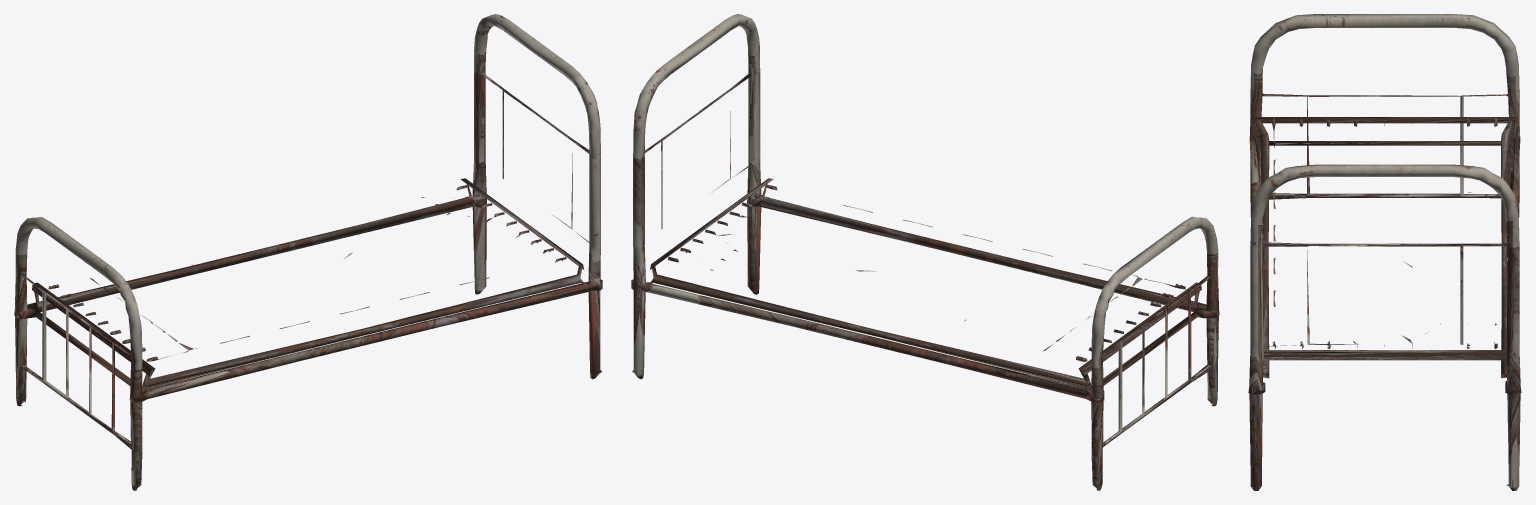
Rendered from old_bed_frame.glb.
3 views of the same model, side by side, from view 1: azimuth 30°, elevation 25°; view 2: azimuth 150°, elevation 25°; view 3: azimuth 270°, elevation 25° (orthographic). The views are drawn at different scales.
Parts seen in each view (by area): view 1: old_bed_frame; view 2: old_bed_frame; view 3: old_bed_frame.
Boxes of the visible parts, x1=… form: old_bed_frame: x1=14, y1=14, x2=602, y2=490; old_bed_frame: x1=631, y1=14, x2=1219, y2=490; old_bed_frame: x1=1248, y1=14, x2=1521, y2=490.
Size of the model in its own units: 1.99 by 1.18 by 0.8955.
1 material, 1 textured.
